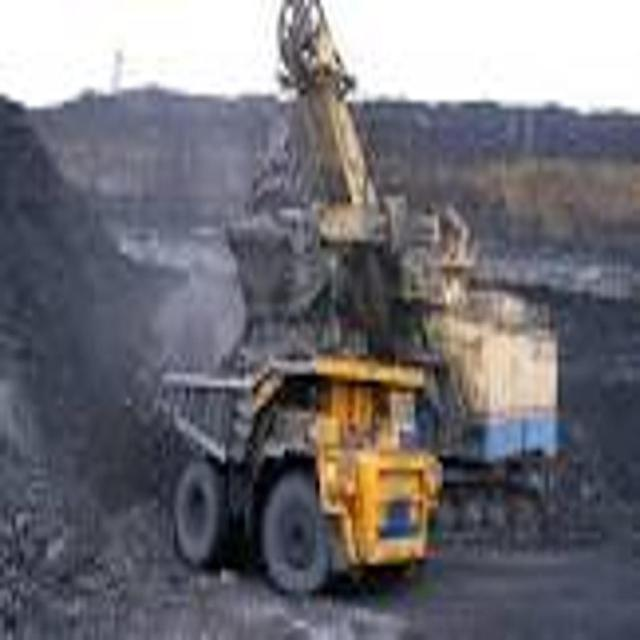dump_truck: (158, 336, 448, 594)
